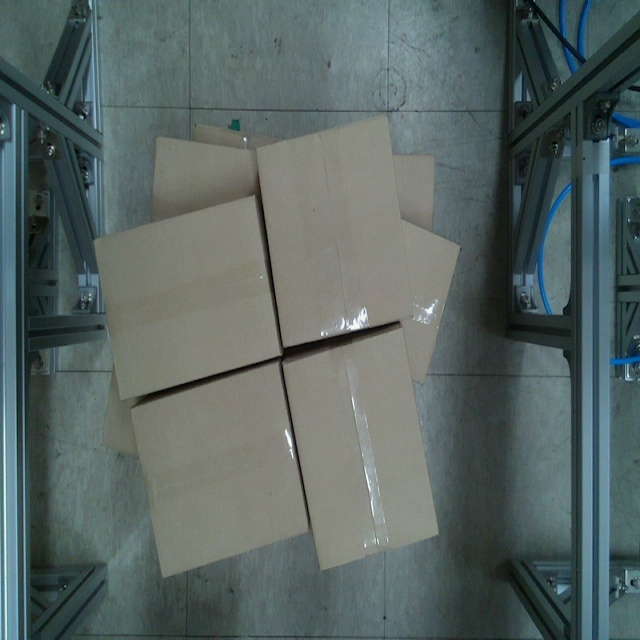box: (281, 321, 441, 575), (128, 359, 311, 579), (91, 192, 283, 401), (251, 108, 416, 351)
